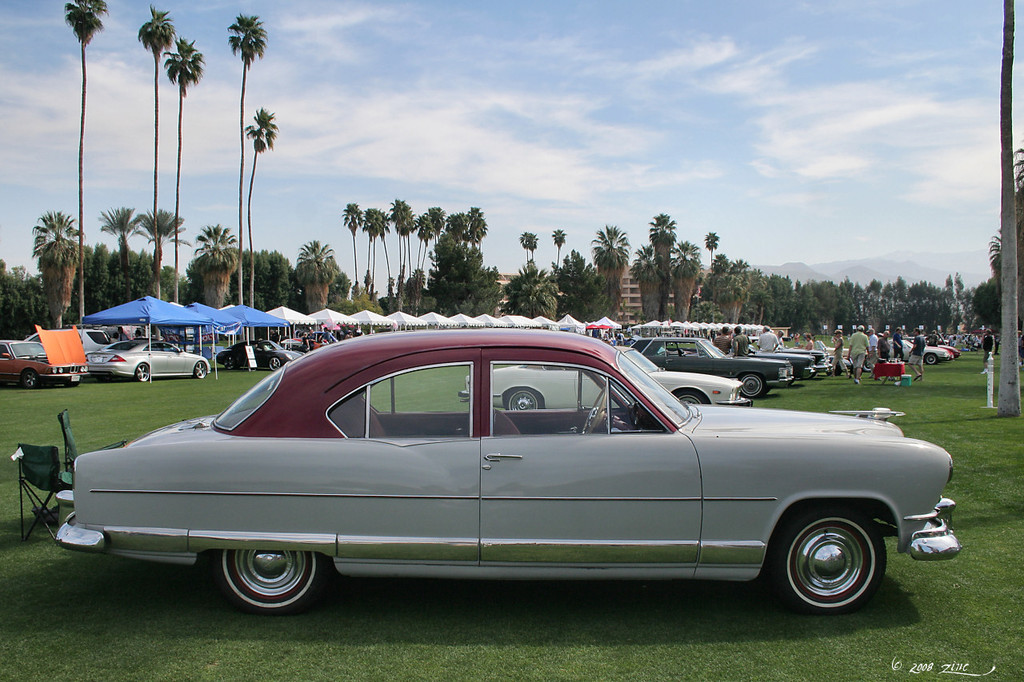Car: (51, 321, 957, 623), (457, 347, 739, 412), (620, 333, 803, 401), (86, 331, 212, 382), (0, 319, 88, 386), (215, 339, 306, 374), (899, 339, 954, 362)
